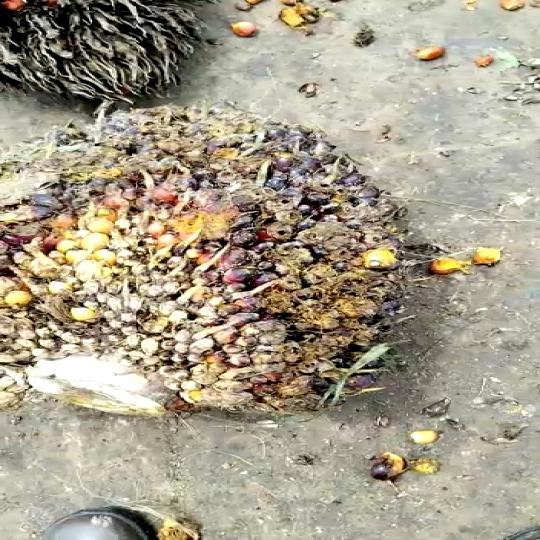kurang masak: (5, 100, 442, 442)
